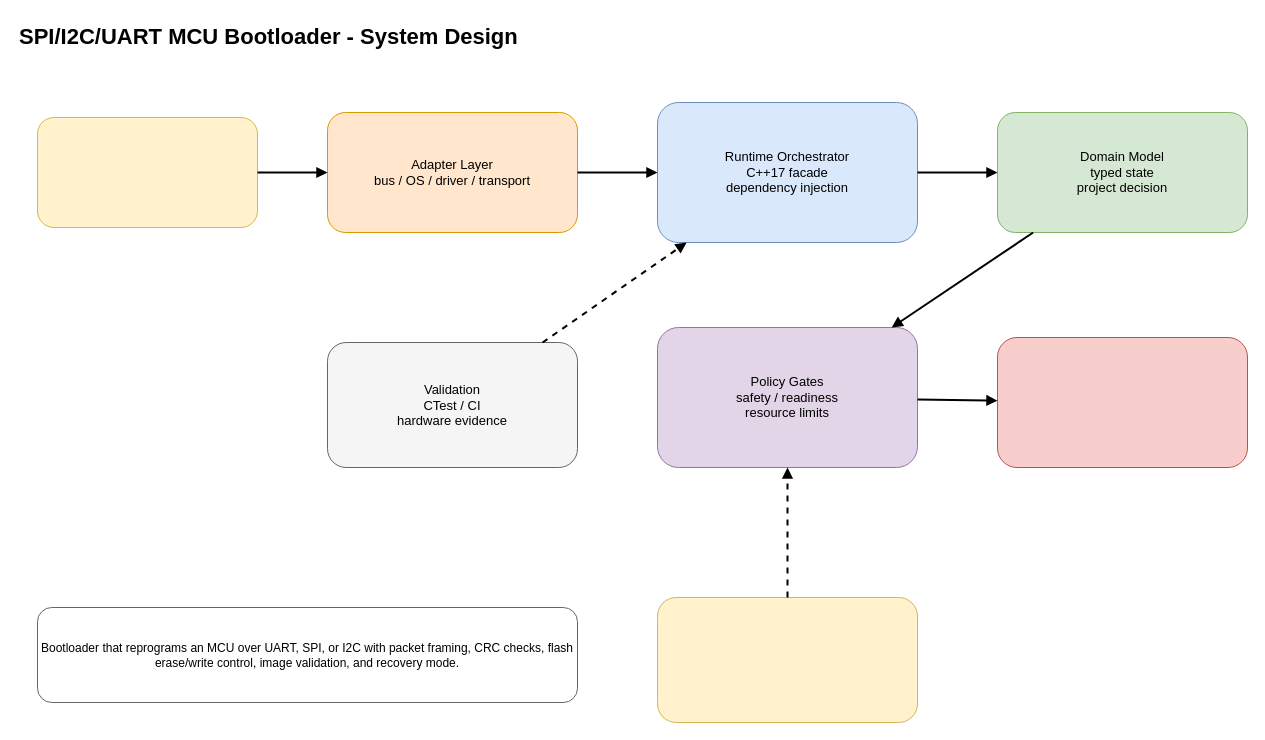
The diagram is 1265 pixels wide and 740 high, and some of its shapes have lost their labels. The centre of each missing label's shape, as x and y in pixels:
Evidence Outputs telemetry / logs / reports: point 1122,402
Input Sources hardware / simulator / commands: point 147,172
Roadmap design / host runtime target adapters / evidence: point 787,659
